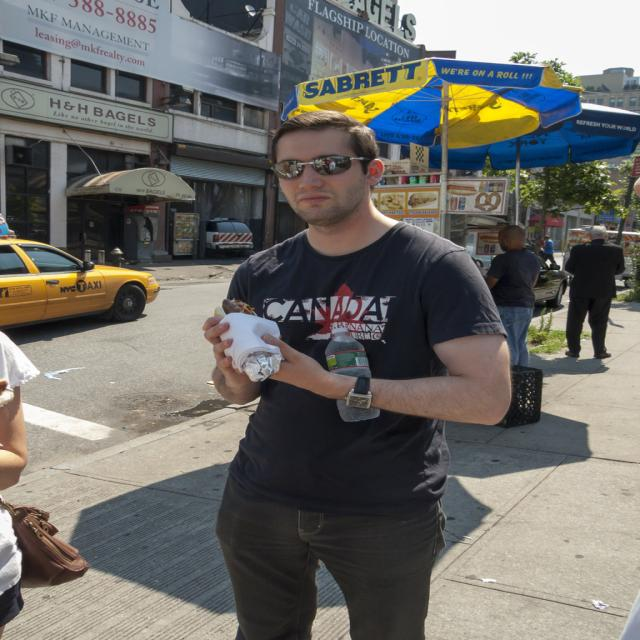car: (203, 216, 252, 248)
